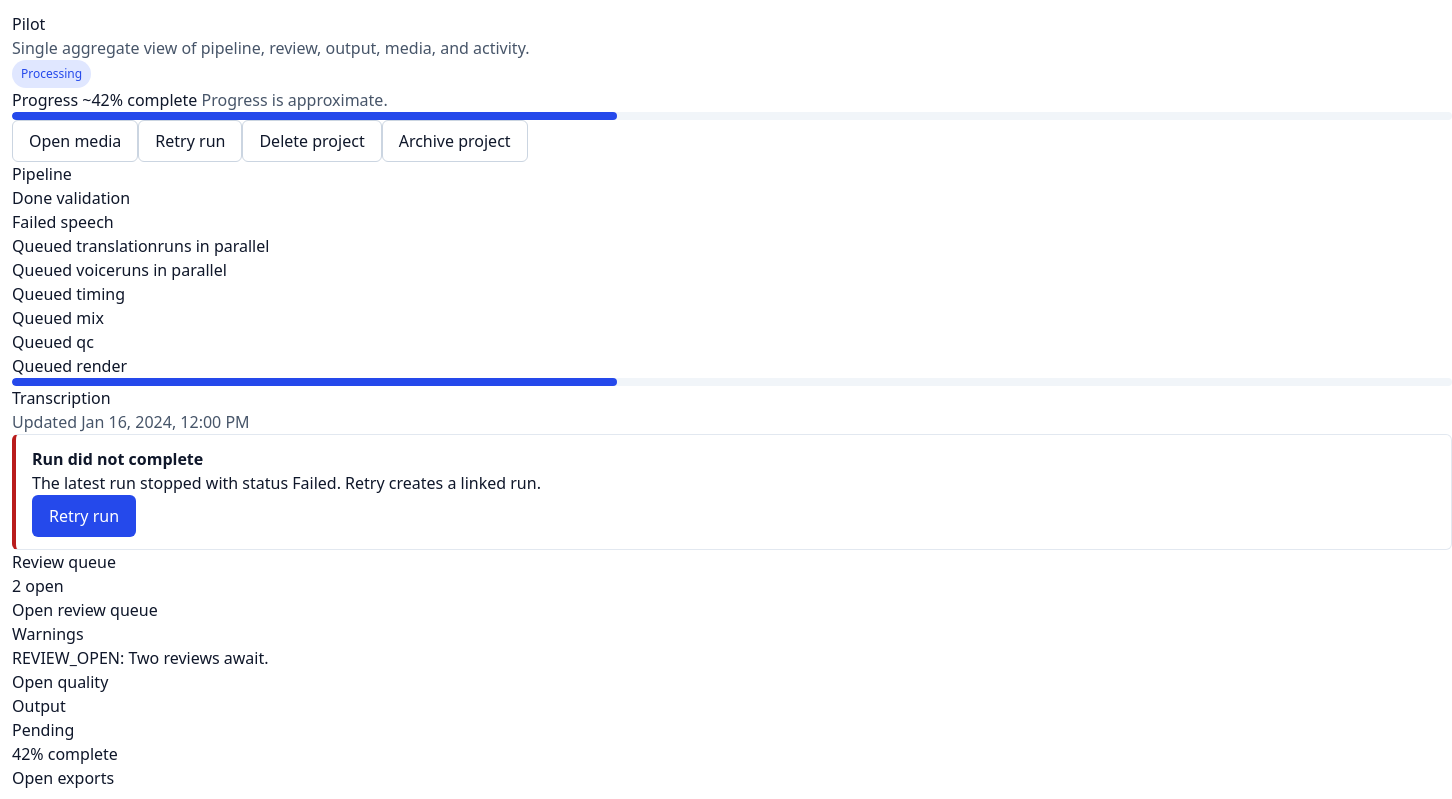
Scenario: run action matrix › retries failed runs and reports retry failures (recovery: retry/report)
Expected: the element with test id "workspace-recovery" is shown, x1=12 y1=434 x2=1451 y2=550
Click the button with test id "workspace-action-retry".
click(190, 141)  # box x1=138 y1=120 x2=242 y2=162
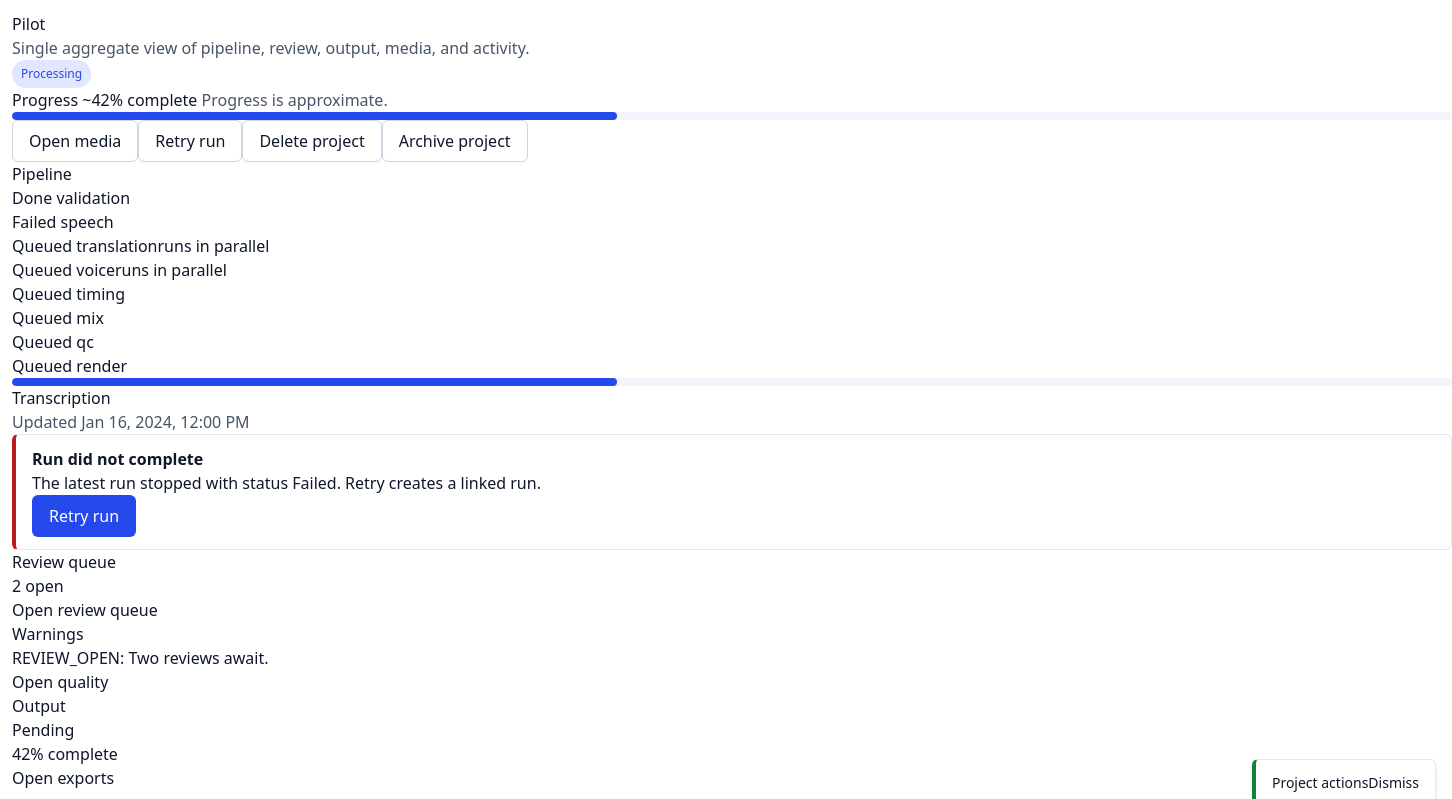
Click the button with test id "workspace-recovery-retry".
click(84, 516)  # box x1=32 y1=495 x2=136 y2=537
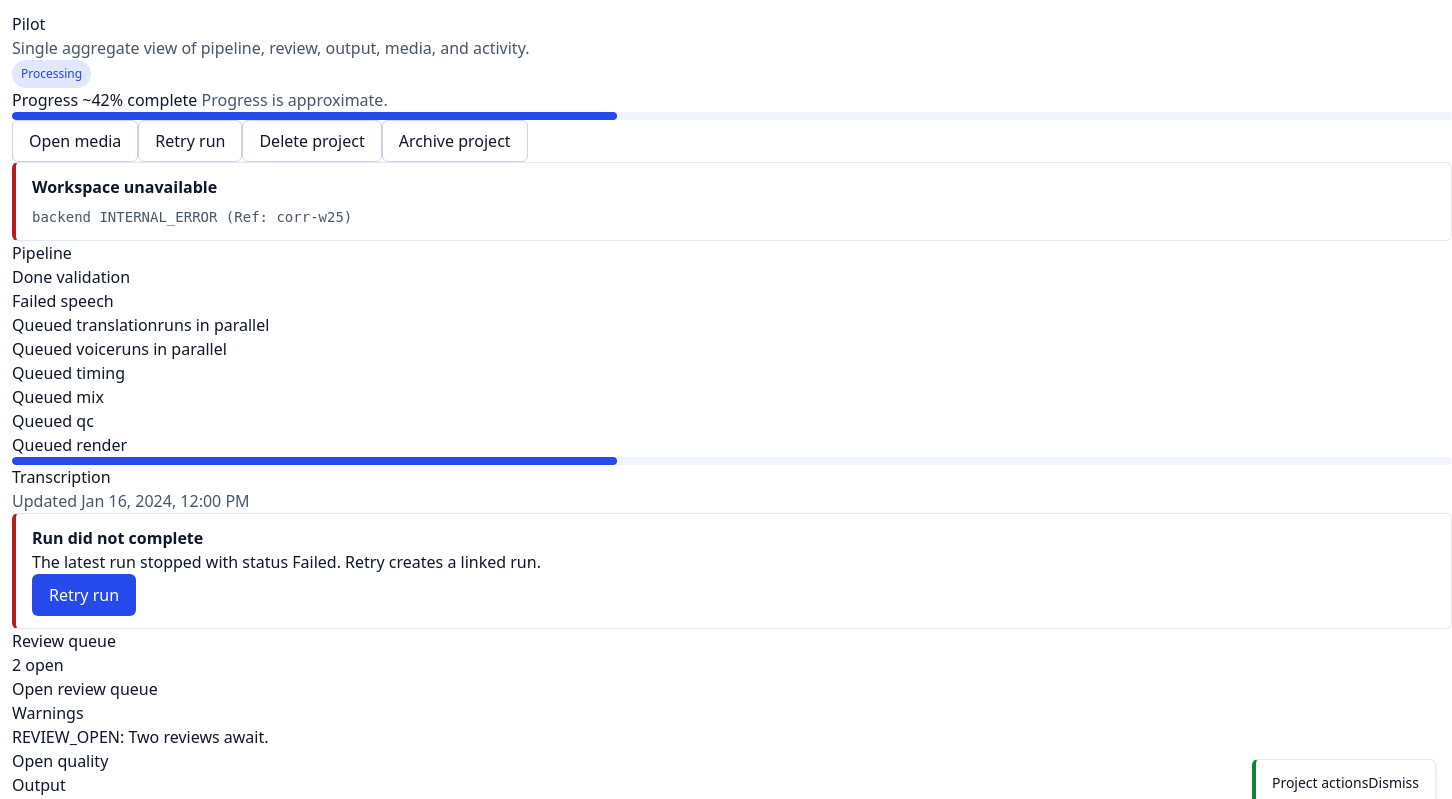
Now the element with test id "workspace-action-error" is shown, box x1=12 y1=162 x2=1451 y2=241
